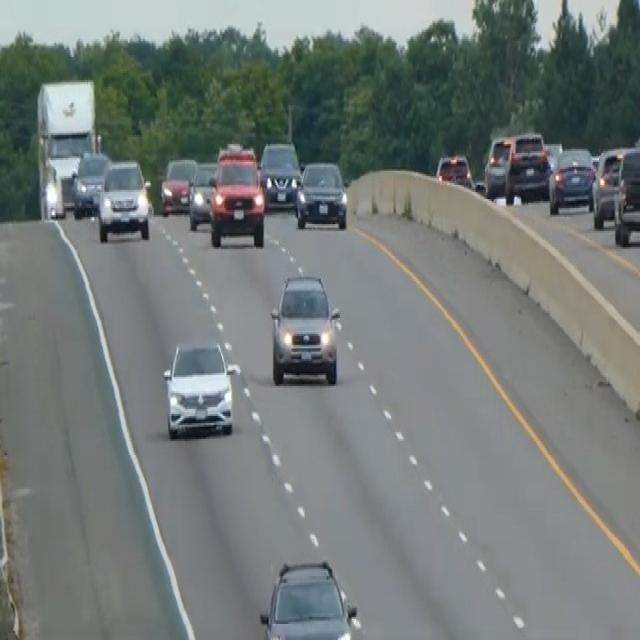car: (258, 556, 360, 638), (162, 336, 235, 439), (208, 146, 265, 247), (96, 154, 152, 242), (294, 156, 348, 230), (504, 130, 551, 202), (548, 144, 595, 213), (259, 137, 302, 210), (430, 138, 478, 202), (591, 144, 625, 228), (70, 148, 110, 218), (612, 144, 639, 247), (159, 155, 197, 215), (187, 160, 217, 229), (483, 132, 512, 198), (39, 157, 65, 220), (435, 150, 473, 188)
jeep: (268, 266, 342, 388)
lorry: (35, 76, 98, 218)
